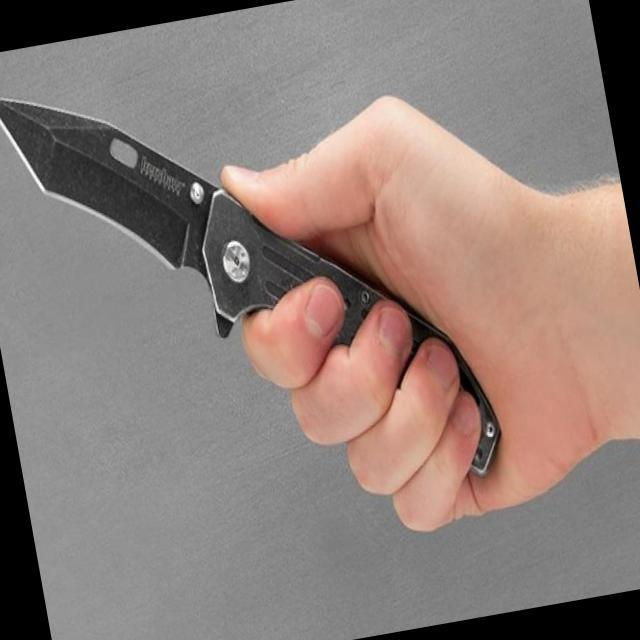Knife: (0, 15, 423, 462)
